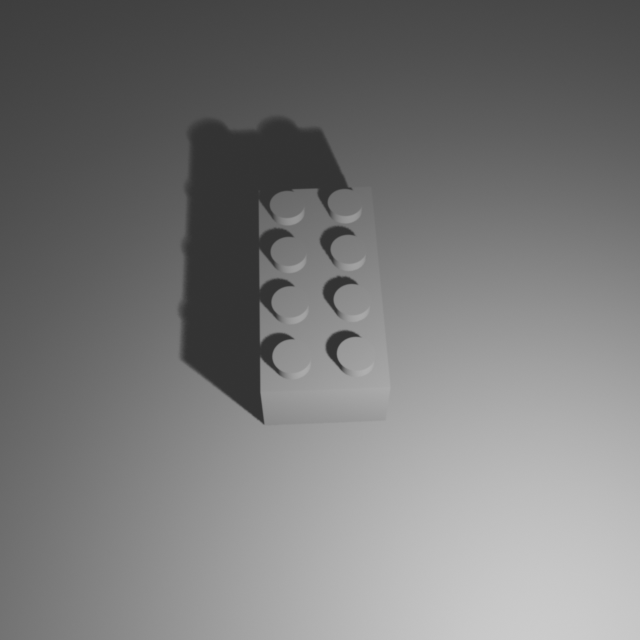lego_2x4: (258, 179, 391, 425)
